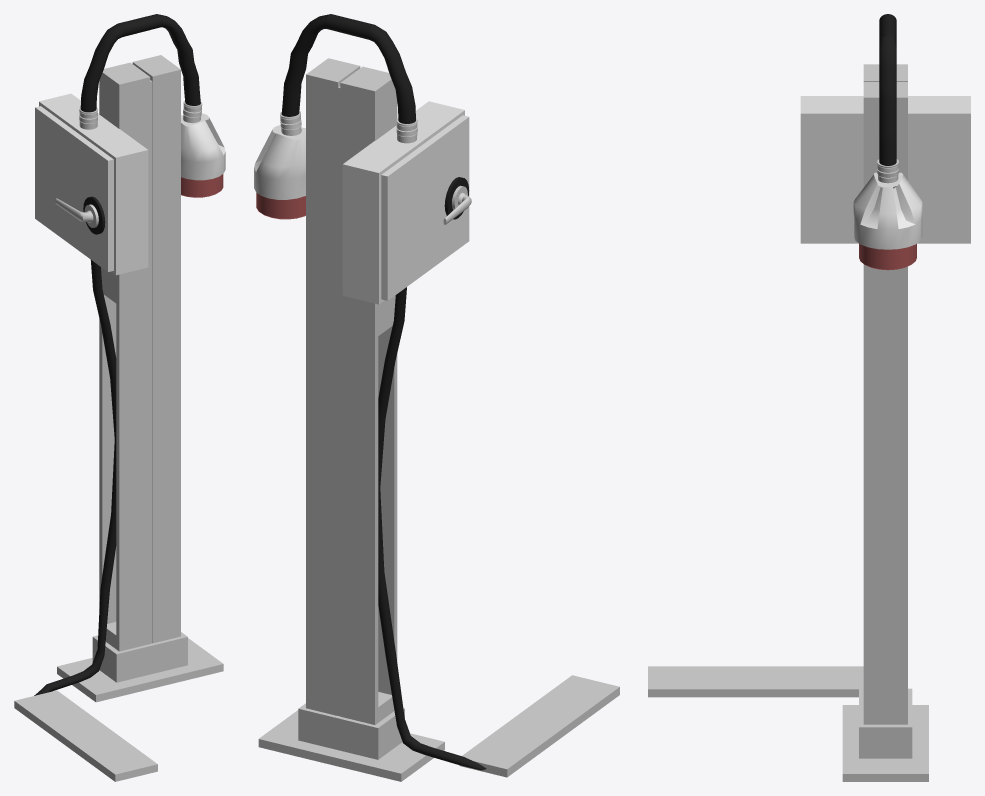
Rendered from Floor_Obstacle.fbx.
The picture shows the model from 3 angles, left to right: view 1: azimuth 30°, elevation 25°; view 2: azimuth 150°, elevation 25°; view 3: azimuth 270°, elevation 25°; orthographic projection. The views are drawn at different scales.
Visible parts, largest first — view 1: Column, FrontPanel, BackPanel, FloorObject, Cable, Pipe, BottomHolder, BackObject, BottomHolder2, Handle, HandleHolder; view 2: Column, FrontPanel, BackPanel, FloorObject, Cable, Pipe, BackObject, BottomHolder, BottomHolder2; view 3: Column, BackPanel, FloorObject, BackObject, BottomHolder, Pipe, BottomHolder2.
Part boxes in pixels (bbox=[...]): Column: bbox=[99, 55, 180, 651]; FrontPanel: bbox=[35, 106, 113, 271]; BackPanel: bbox=[39, 93, 148, 275]; FloorObject: bbox=[14, 690, 157, 781]; Cable: bbox=[34, 260, 116, 695]; Pipe: bbox=[80, 14, 200, 112]; BottomHolder: bbox=[57, 638, 223, 702]; BackObject: bbox=[181, 113, 225, 197]; BottomHolder2: bbox=[92, 632, 187, 682]; Handle: bbox=[55, 198, 98, 227]; HandleHolder: bbox=[83, 196, 105, 234]; Column: bbox=[306, 58, 397, 724]; FrontPanel: bbox=[381, 115, 469, 300]; BackPanel: bbox=[342, 101, 464, 304]; FloorObject: bbox=[459, 675, 619, 777]; Cable: bbox=[378, 287, 486, 770]; Pipe: bbox=[281, 14, 415, 123]; BackObject: bbox=[254, 125, 305, 219]; BottomHolder: bbox=[258, 710, 444, 781]; BottomHolder2: bbox=[298, 703, 404, 759]; Column: bbox=[863, 64, 907, 724]; BackPanel: bbox=[800, 96, 970, 243]; FloorObject: bbox=[648, 666, 863, 697]; BackObject: bbox=[853, 172, 922, 270]; BottomHolder: bbox=[842, 705, 928, 781]; Pipe: bbox=[879, 14, 896, 165]; BottomHolder2: bbox=[859, 688, 912, 758].
Bounding box in the file's own units: 468 × 1362 × 552.
